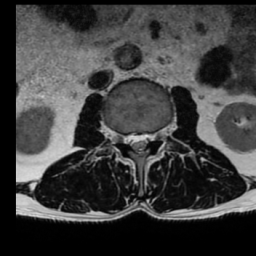CCS_normal: (135, 124, 142, 160)
LFS_normal: (150, 122, 159, 148)
LLS_normal: (142, 123, 150, 154)
RFS_normal: (119, 123, 127, 151)
RLS_normal: (127, 124, 135, 154)
